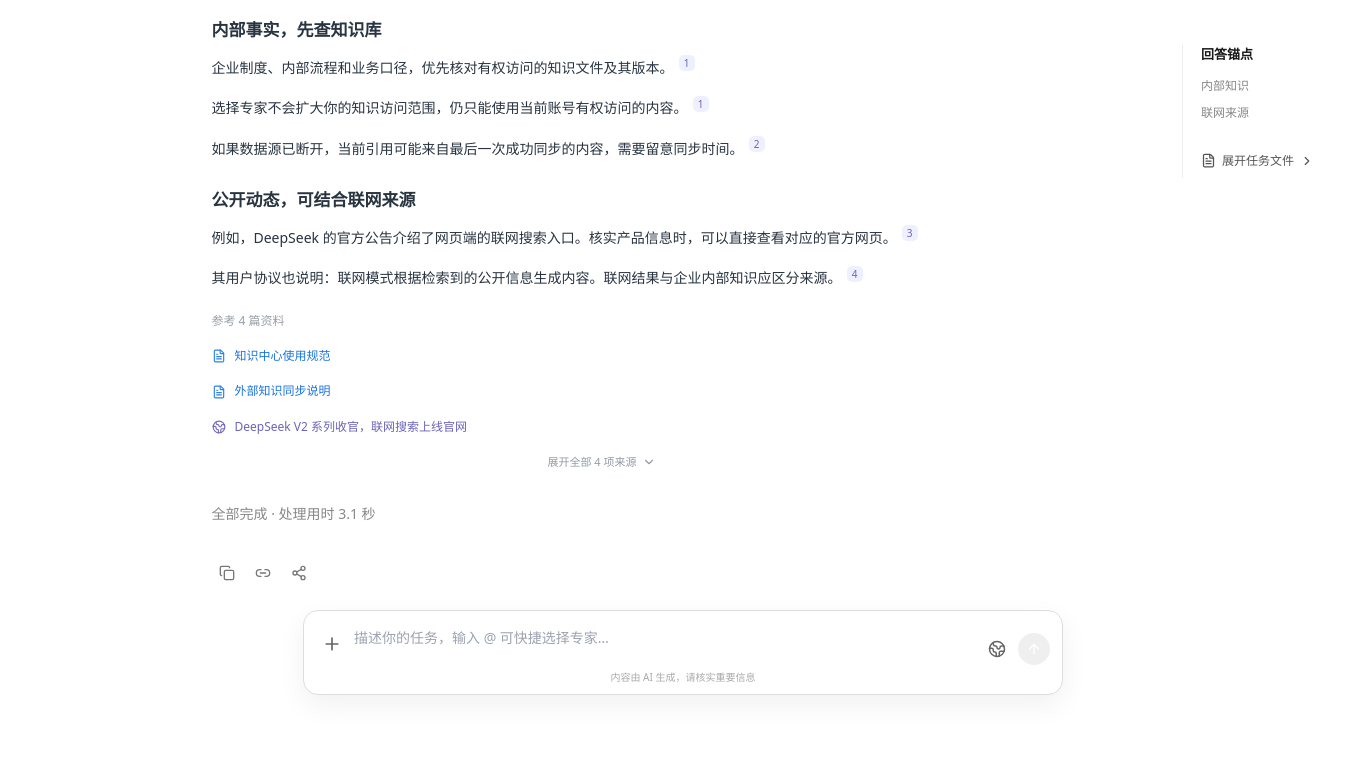
Test: conversation knowledge-source previews › uses the current DOWNLOADER permission in the active conversation preview
(page scrolled)
Click the button "知识中心使用规范" at [283, 355], box [212, 342, 992, 370]
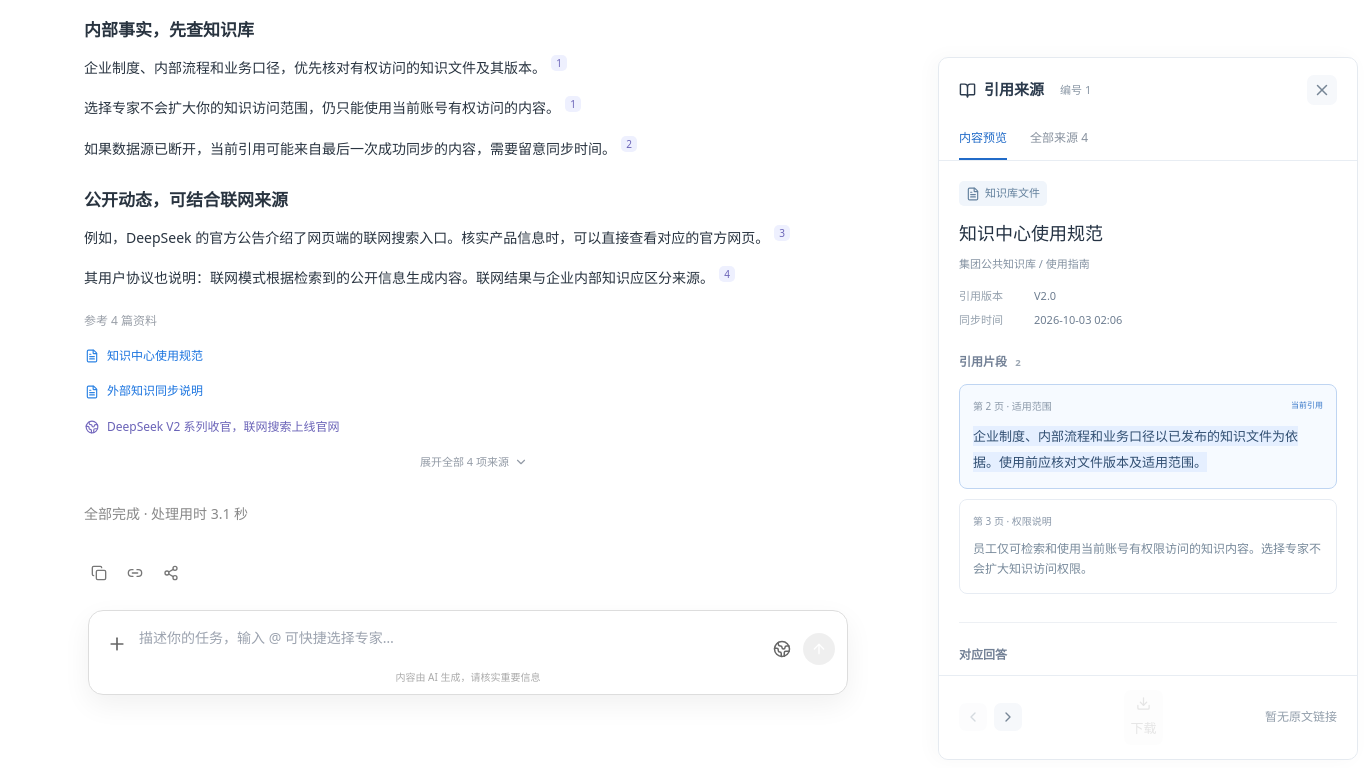
Now the element with test id "citation-preview" shows "知识中心使用规范", box [959, 221, 1103, 245]
Now the button with aria-label "下载文件" is shown, box [1124, 690, 1162, 745]
